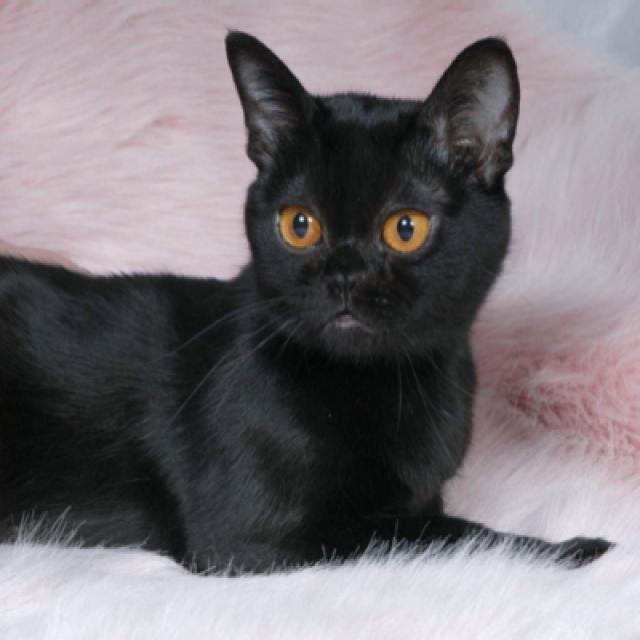cat: (224, 28, 518, 352)
